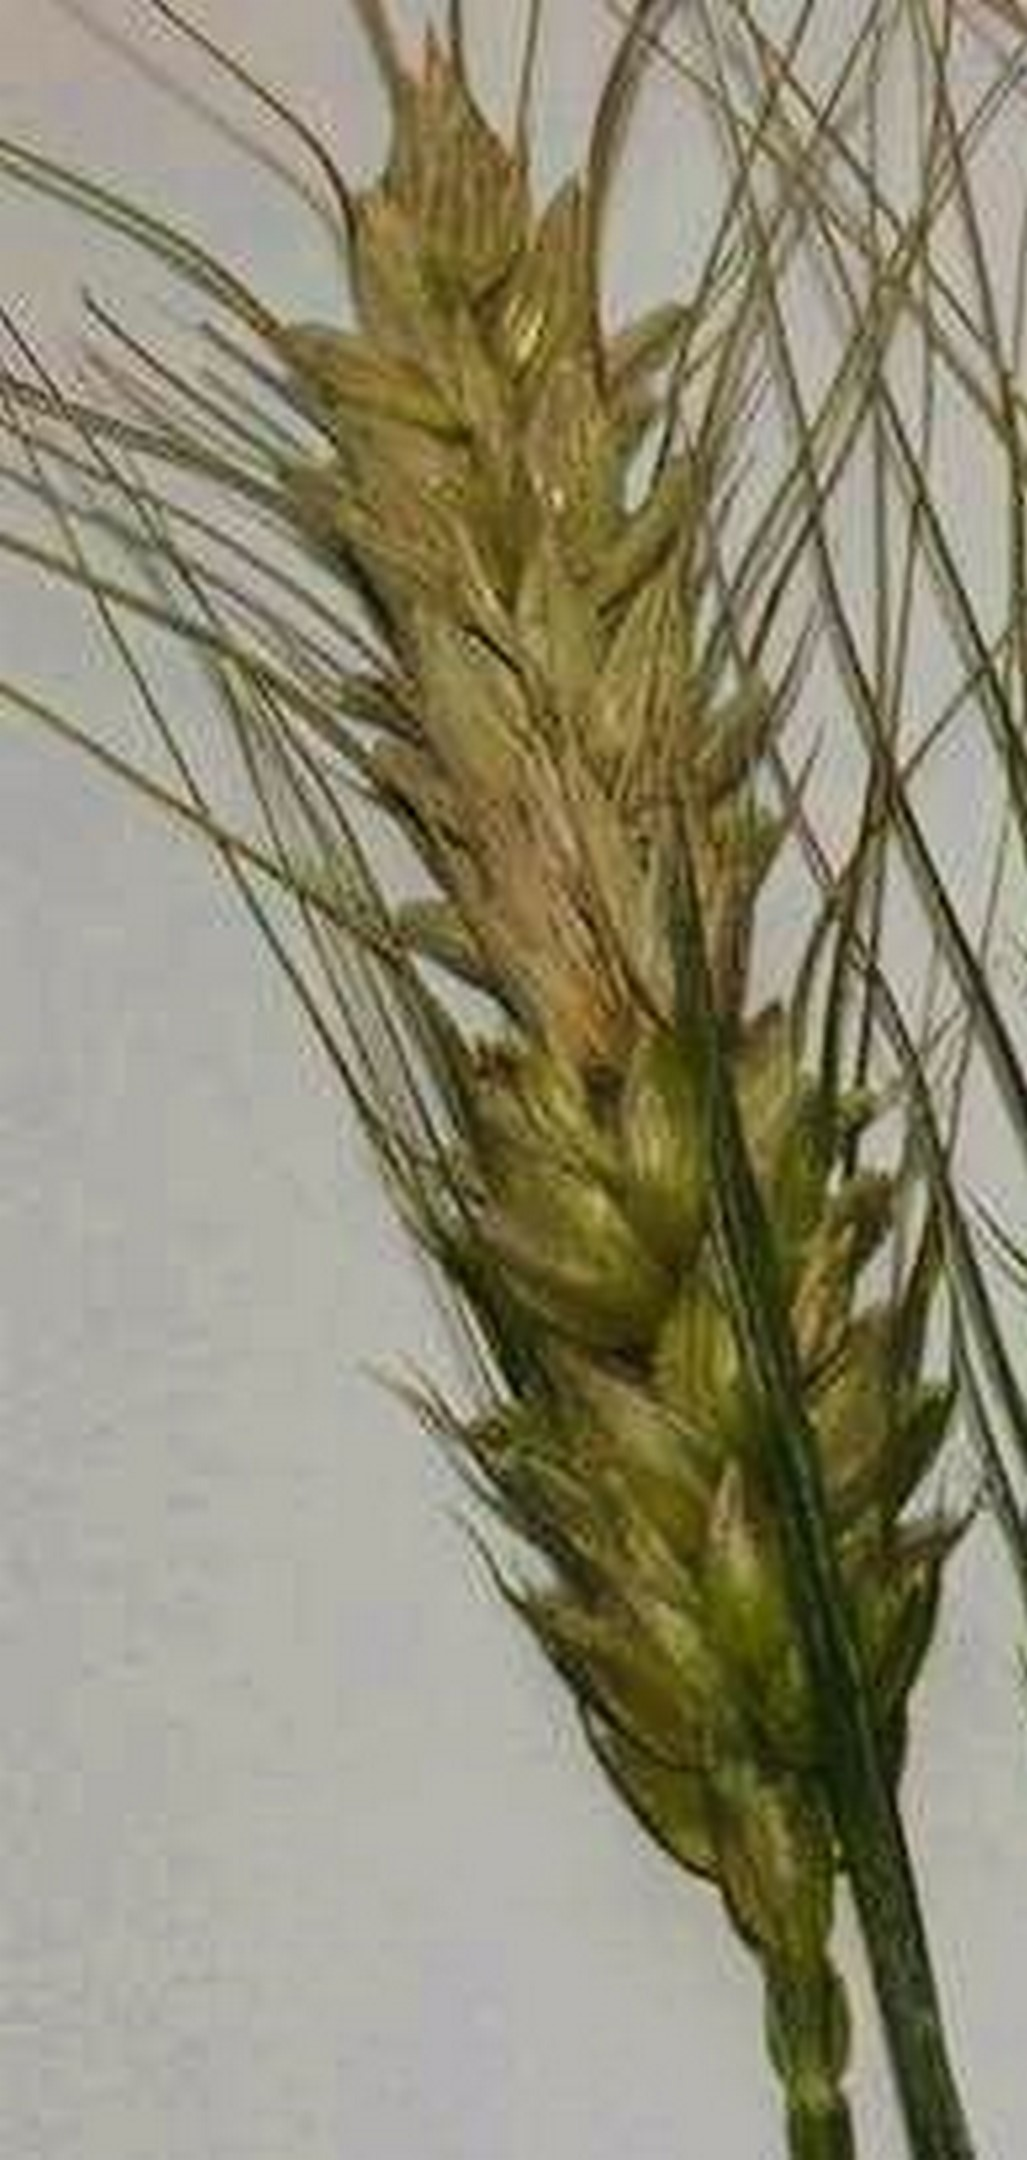Wheat scab: (246, 105, 1012, 1982)
